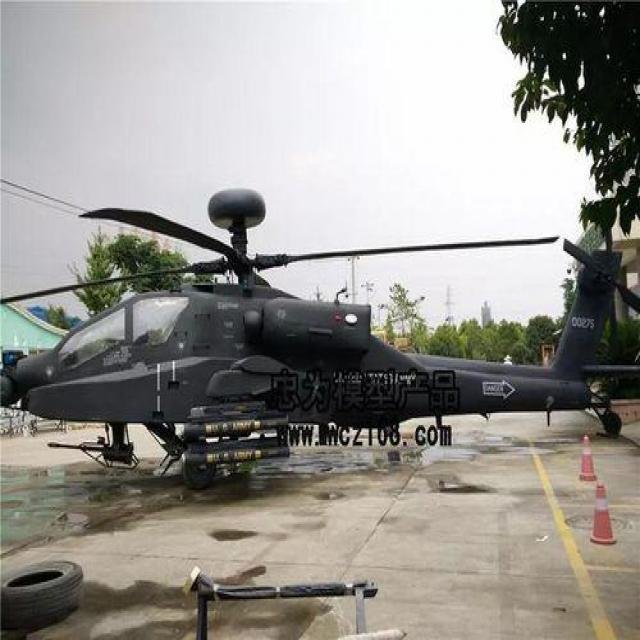MIL_HELO: (12, 174, 619, 496)
